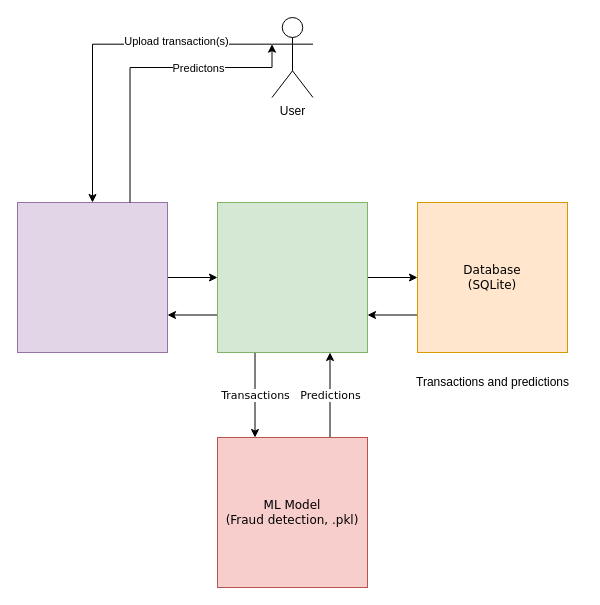
The diagram is 600 pixels wide and 605 high, and some of its shapes have lost their labels. The shapes that lost their labels are listed below. From the top down, each one's box as (x1, y1, x2, y2) in pixels, then its label:
(16, 202, 168, 352): Frontend (Next.js)
(216, 202, 368, 352): Backend (FastAPI)
